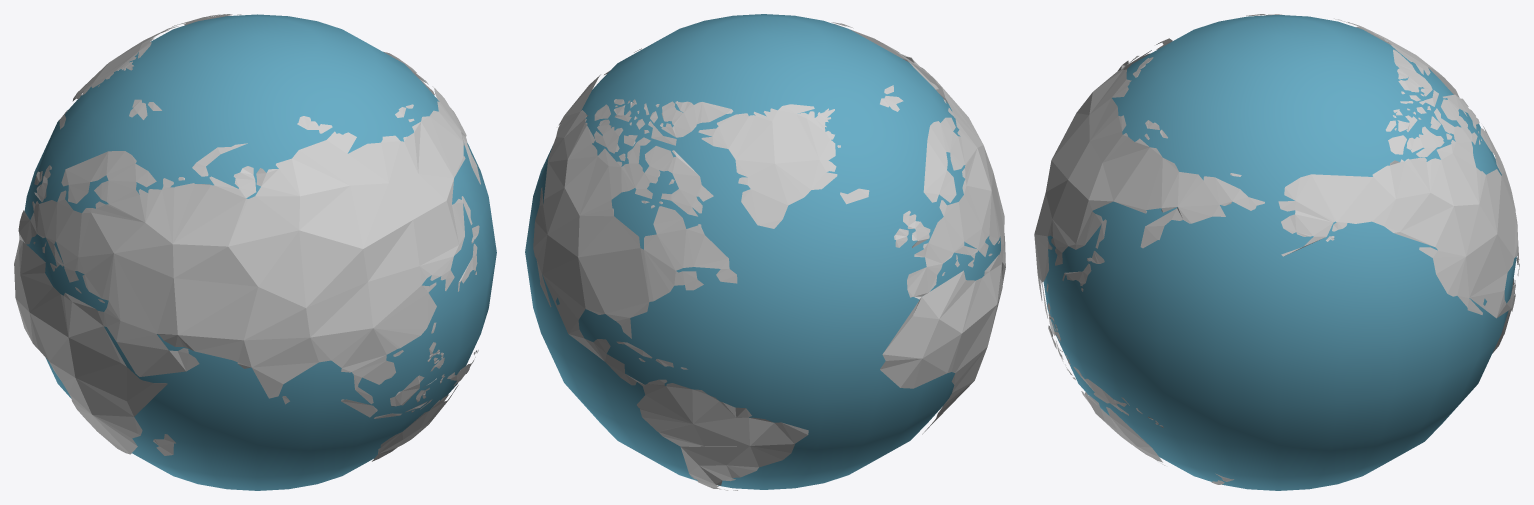
Rendered from Paper Globe.fbx.
3 renders of one model, left to right at view 1: azimuth 30°, elevation 25°; view 2: azimuth 150°, elevation 25°; view 3: azimuth 270°, elevation 25°, orthographic.
Visible parts, largest first — view 1: Path_89, Base, Path_83, Path_70; view 2: Base, Path_81, Path_89, Path_83, Path_4, Path_12; view 3: Base, Path_81, Path_89, Path_70, Path_4, Path_83, Path_12.
Boxes of the visible parts, bbox=[...] form: Path_89: bbox=[14, 86, 480, 454]; Base: bbox=[24, 14, 496, 490]; Path_83: bbox=[72, 26, 178, 101]; Path_70: bbox=[372, 385, 458, 461]; Base: bbox=[525, 14, 1000, 489]; Path_81: bbox=[533, 74, 808, 490]; Path_89: bbox=[604, 24, 1005, 434]; Path_83: bbox=[698, 104, 837, 228]; Path_4: bbox=[661, 101, 733, 137]; Path_12: bbox=[594, 119, 623, 153]; Base: bbox=[1043, 15, 1516, 490]; Path_81: bbox=[1278, 94, 1519, 353]; Path_89: bbox=[1034, 50, 1264, 318]; Path_70: bbox=[1081, 391, 1162, 462]; Path_4: bbox=[1393, 49, 1432, 96]; Path_83: bbox=[1334, 18, 1459, 97]; Path_12: bbox=[1406, 126, 1444, 157].
Bounding box in the file's own units: 402 × 396 × 402.
